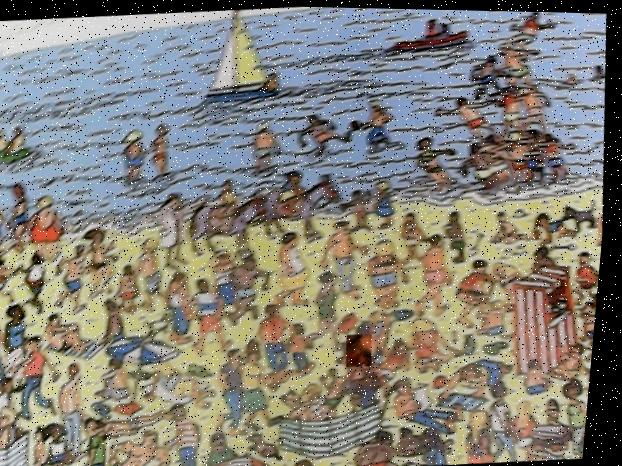waldo: (352, 332, 382, 368)
